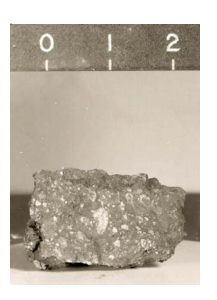Breccia: (18, 144, 191, 273)
